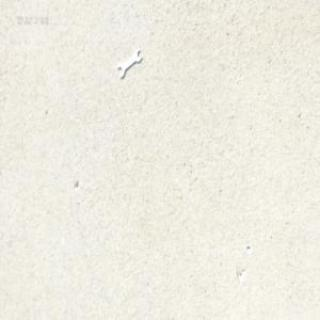Wrenchtrack_idkeyframe: (117, 50, 141, 80)
